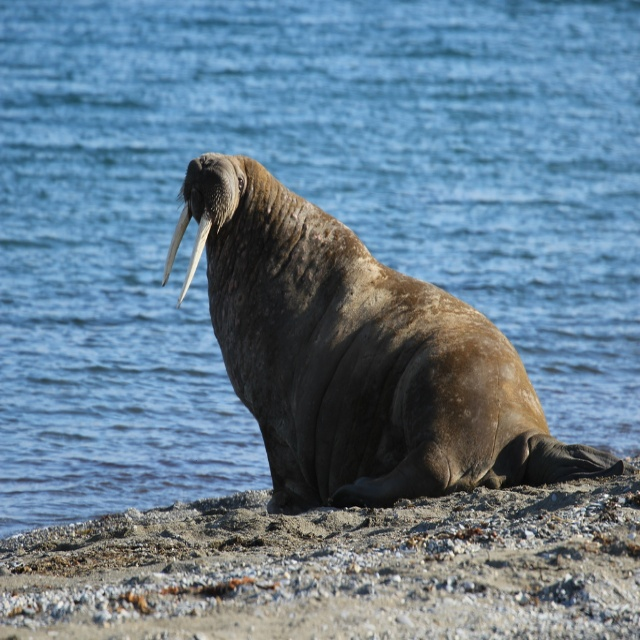Harbor seal: (180, 148, 572, 524)
